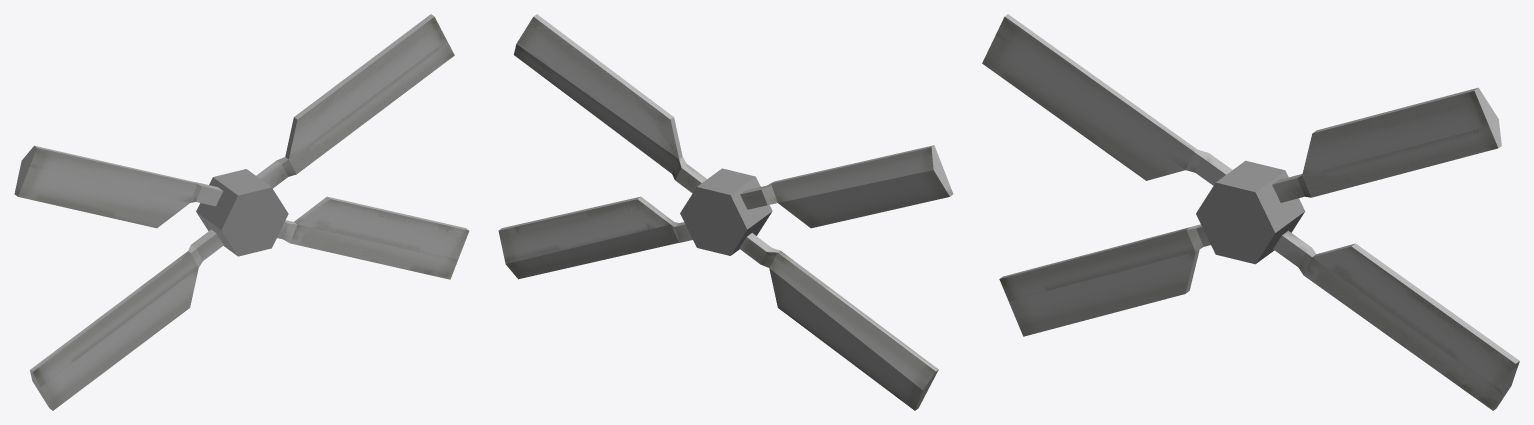
The model's file is back_propeller.fbx.
The picture shows the model from 3 angles, left to right: view 1: azimuth 30°, elevation 25°; view 2: azimuth 150°, elevation 25°; view 3: azimuth 330°, elevation 25°; orthographic projection. The views are drawn at different scales.
Visible parts, largest first — view 1: Back_Propeller_Object_39_Object_21; view 2: Back_Propeller_Object_39_Object_21; view 3: Back_Propeller_Object_39_Object_21.
Boxes of the visible parts, box(x1,y1,x2,y2) form: Back_Propeller_Object_39_Object_21: box(14, 14, 469, 410); Back_Propeller_Object_39_Object_21: box(498, 14, 953, 410); Back_Propeller_Object_39_Object_21: box(982, 14, 1519, 410).
Bounding box in the file's own units: 0.0309 × 0.2027 × 0.3179.
Materials: 1 (1 with a texture image).
